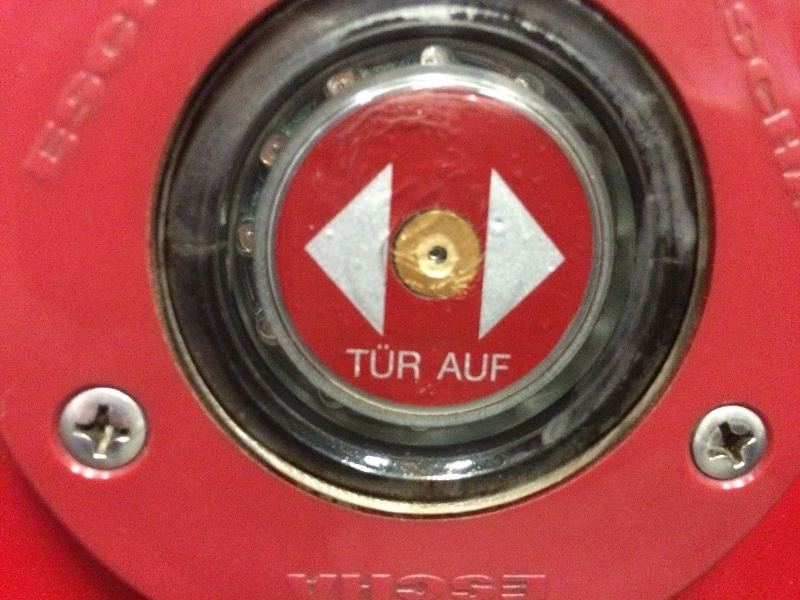text: (33, 7, 48, 187), (49, 7, 64, 187), (65, 7, 80, 187), (81, 7, 96, 187), (97, 7, 112, 187), (113, 7, 128, 187), (753, 1, 768, 173), (769, 1, 784, 173), (785, 1, 800, 173), (129, 7, 142, 187), (23, 7, 32, 187), (785, 171, 799, 218), (353, 344, 368, 382), (369, 344, 384, 382), (385, 344, 400, 382), (401, 344, 416, 382), (497, 352, 513, 383), (449, 352, 464, 383), (465, 352, 480, 383), (481, 352, 496, 383), (289, 575, 304, 600), (305, 575, 320, 600), (321, 575, 336, 600), (337, 575, 352, 600), (353, 575, 368, 600), (369, 575, 384, 600), (385, 575, 400, 600), (401, 575, 416, 600), (417, 575, 432, 600), (433, 575, 448, 600), (449, 575, 464, 600), (465, 575, 480, 600), (481, 575, 496, 600), (497, 575, 512, 600), (513, 575, 528, 600), (529, 575, 544, 600), (750, 1, 752, 173), (346, 344, 352, 382), (417, 344, 423, 382), (286, 575, 288, 600), (545, 575, 547, 600)
